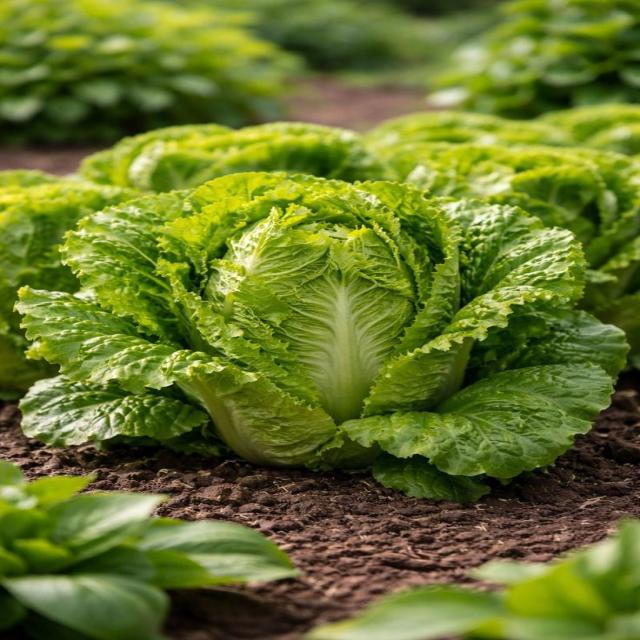lettuce: (19, 173, 627, 500), (380, 137, 639, 365), (0, 461, 296, 639), (0, 0, 295, 143), (306, 522, 639, 639), (0, 171, 135, 399), (430, 0, 639, 117), (80, 122, 381, 191), (539, 104, 639, 154)
